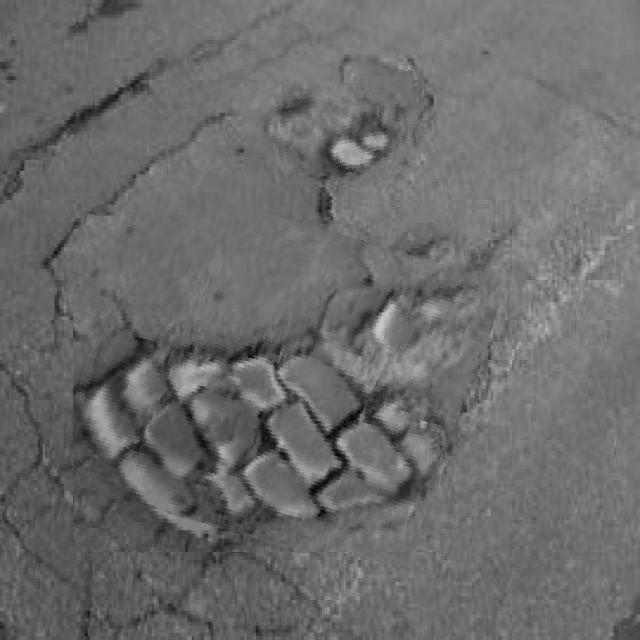Pothole: (73, 195, 490, 552), (262, 77, 425, 187)
